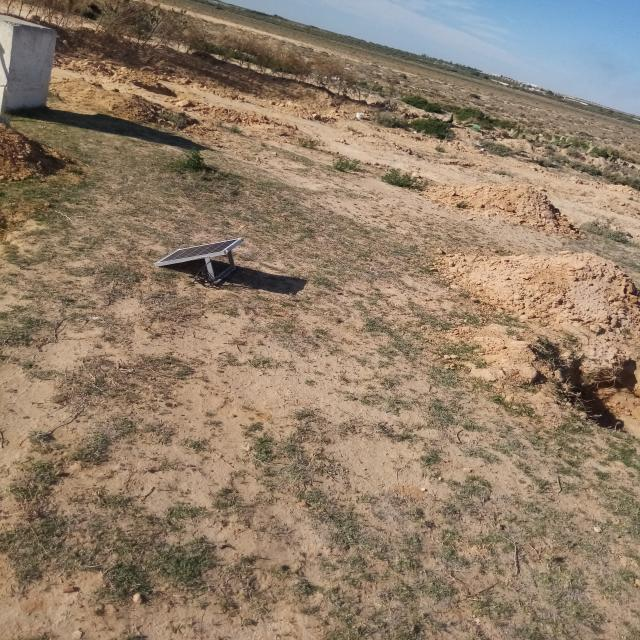no faulty: (154, 238, 242, 263)
